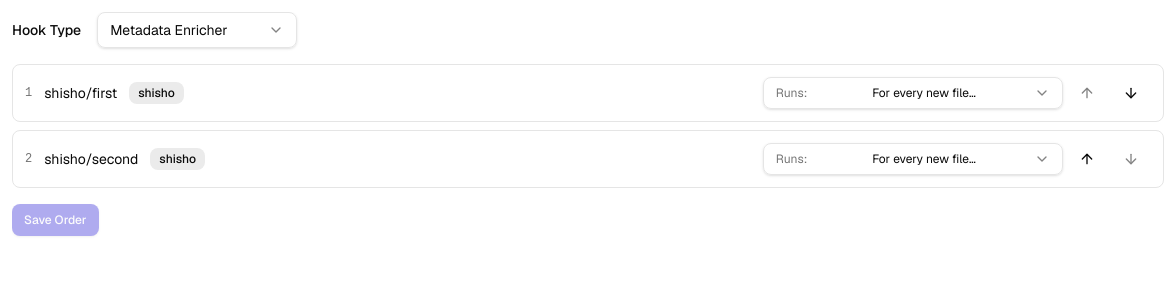
AdvancedOrderSection save › enables Save Order only while the order differs from the saved one
This screenshot has width=1164, height=288.
Check: the button "Save Order" is disabled, box [12,204,99,236]
Click the dropdown named "When this plugin runs" at (913, 93), box [763,77,1063,109]
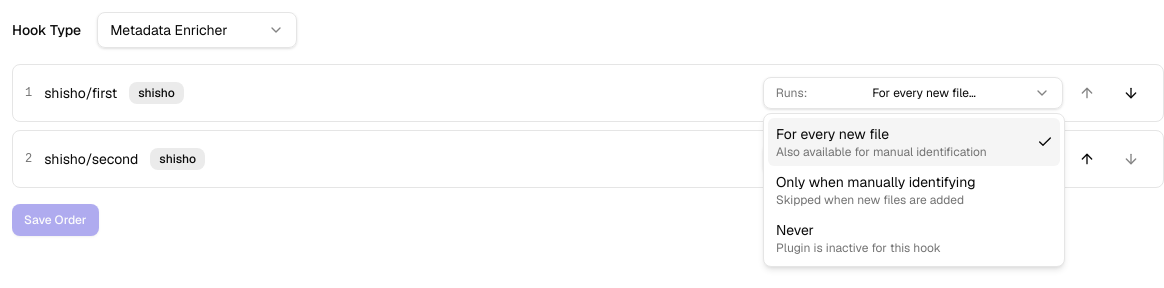
Click the option "Never Plugin is inactive for this hook" at (858, 238), box [776,221,941,256]
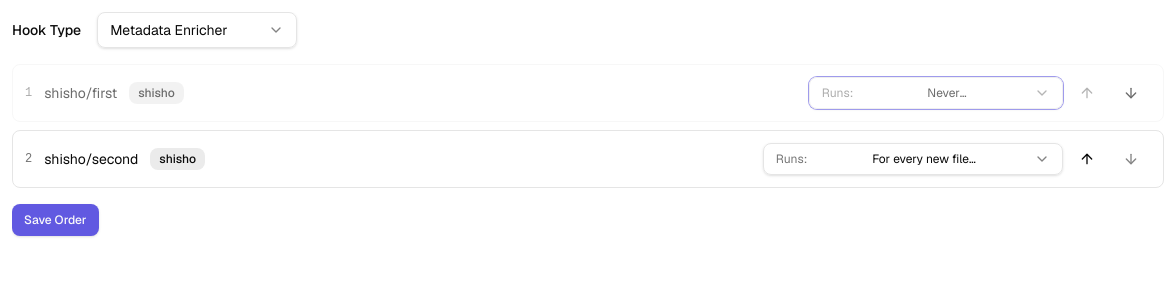
Check: the button "Save Order" is enabled, box [12,204,99,236]
# Setting the mode back matches the saved order again.
Click the dropdown named "When this plugin runs" at (936, 93), box [809,77,1063,109]
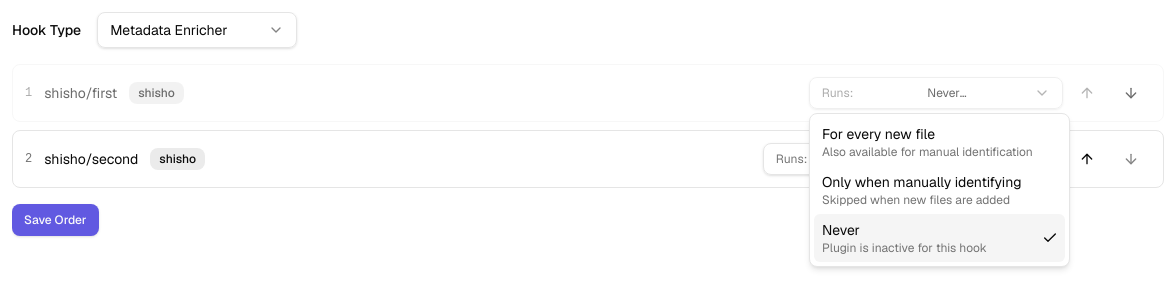
Click the option "For every new file Also available for manual identification" at (927, 142), box [822,125,1033,160]
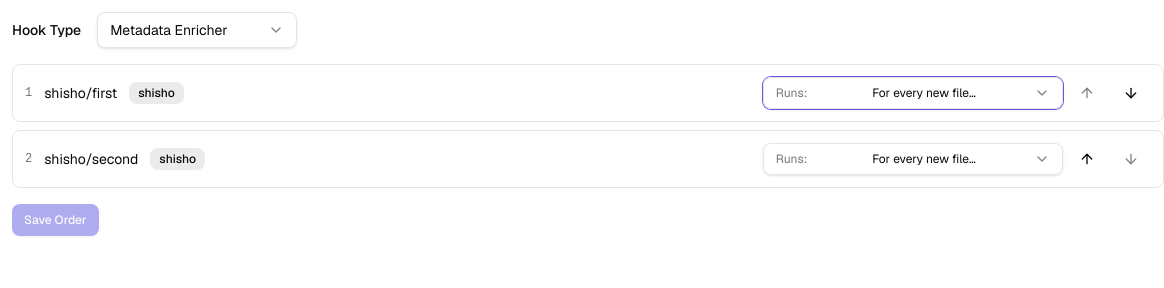
Check: the button "Save Order" is disabled, box [12,204,99,236]
